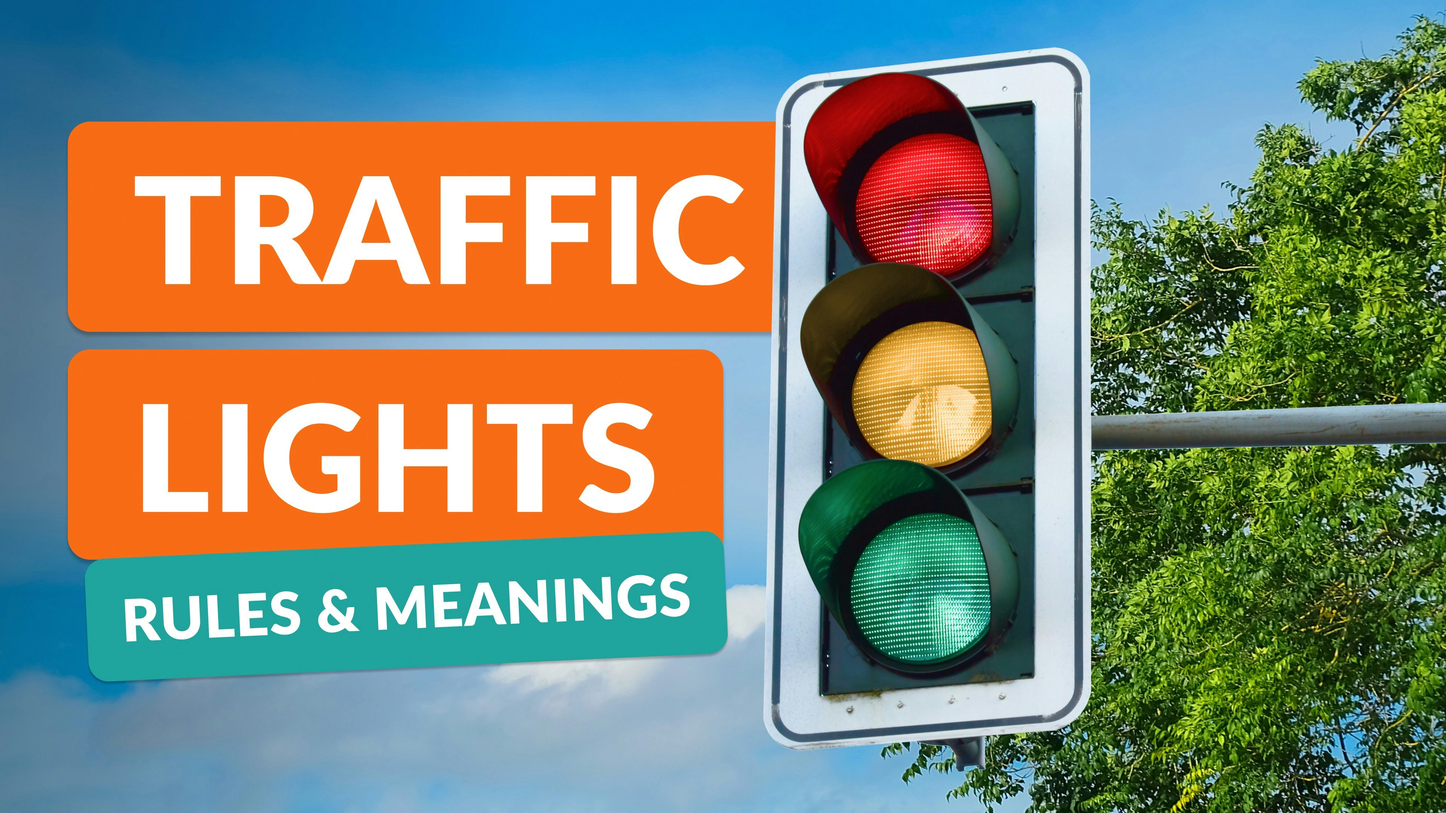TraficLight: (738, 46, 1116, 747)
